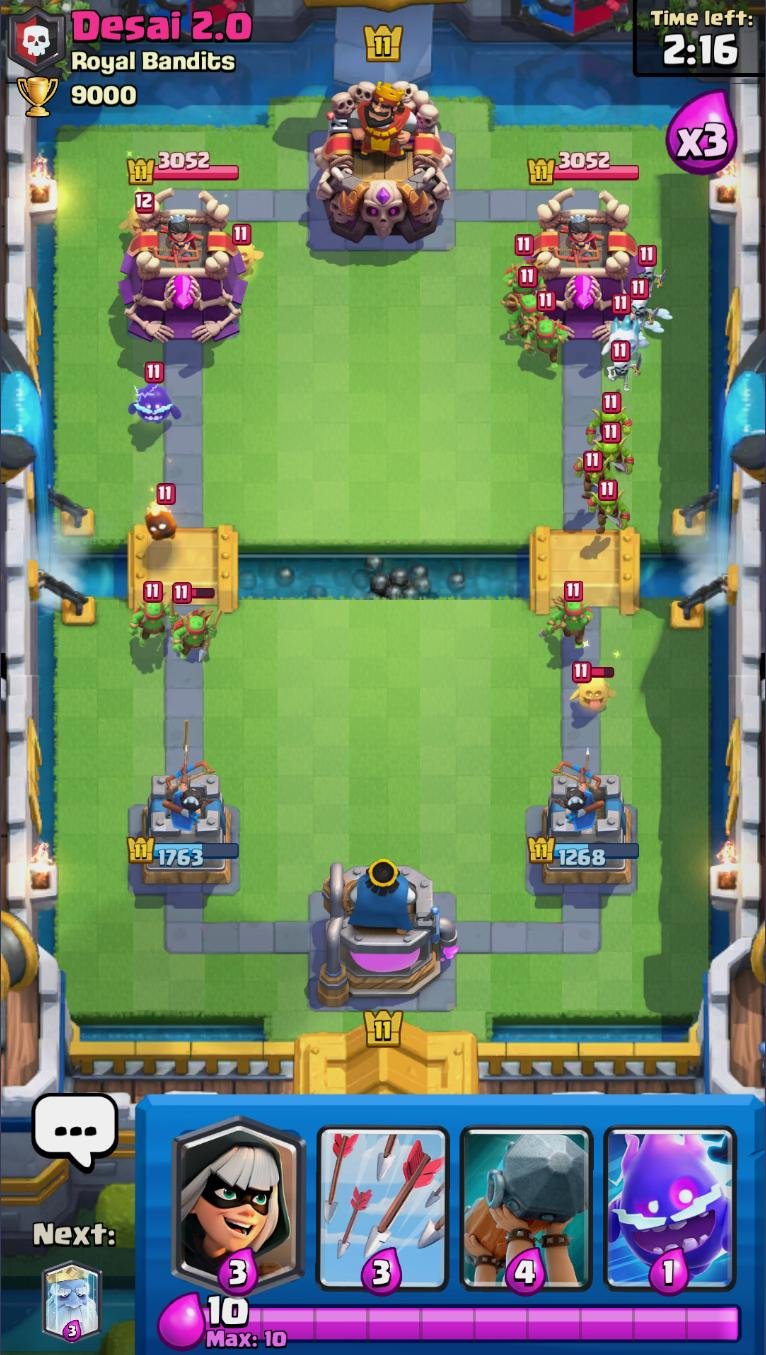ArrowDeck: (309, 1098, 454, 1294)
BanditDeck: (165, 1098, 313, 1296)
BattleRamDeck: (453, 1097, 598, 1295)
ElectroSpirit: (127, 364, 179, 431)
ElectroSpiritDeck: (597, 1099, 745, 1295)
Elixir: (204, 1289, 253, 1333)
EnemyTower: (514, 184, 649, 345), (115, 185, 246, 345)
FireSpirit: (140, 483, 182, 546)
Goblin: (586, 424, 631, 485), (589, 394, 631, 448), (586, 481, 626, 535), (572, 448, 613, 498)
HealSpirit: (564, 661, 620, 718), (226, 224, 265, 280), (119, 193, 153, 240)
IceSpirit: (600, 298, 646, 368)
KingTower: (306, 79, 455, 249)
MyKingTower: (311, 858, 459, 1010)
MyPrincessTower: (124, 769, 238, 894), (529, 771, 639, 886)
MyPrincessTowerHP: (122, 831, 242, 870), (526, 831, 641, 870)
PrincessTower: (155, 212, 205, 268), (557, 212, 607, 267)
RoyaleGhostNext: (42, 1261, 102, 1341)
Skeleton: (603, 344, 644, 395), (624, 282, 655, 335), (638, 244, 661, 297)
SpearGoblin: (123, 580, 179, 650), (170, 582, 217, 659), (500, 268, 543, 350), (525, 291, 571, 366), (545, 582, 592, 655), (500, 235, 546, 300)
TowerPrincessHP: (121, 148, 241, 188), (526, 150, 643, 188)
